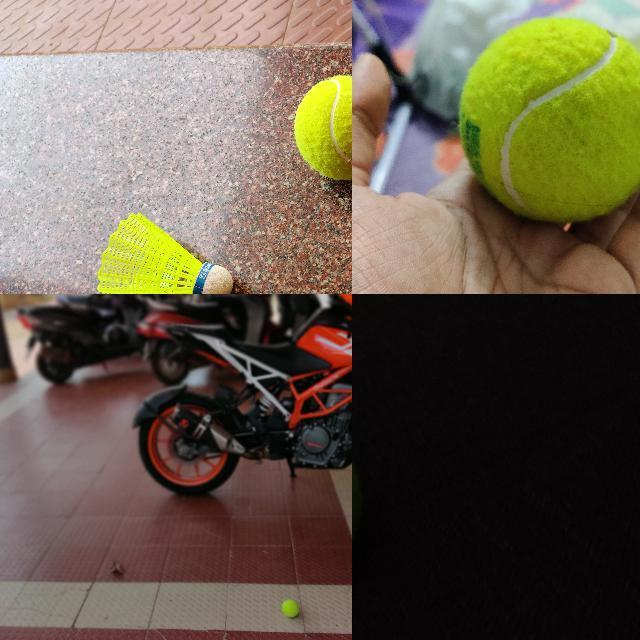tennis-ball: (457, 17, 639, 223), (293, 74, 351, 179), (282, 599, 299, 617)
